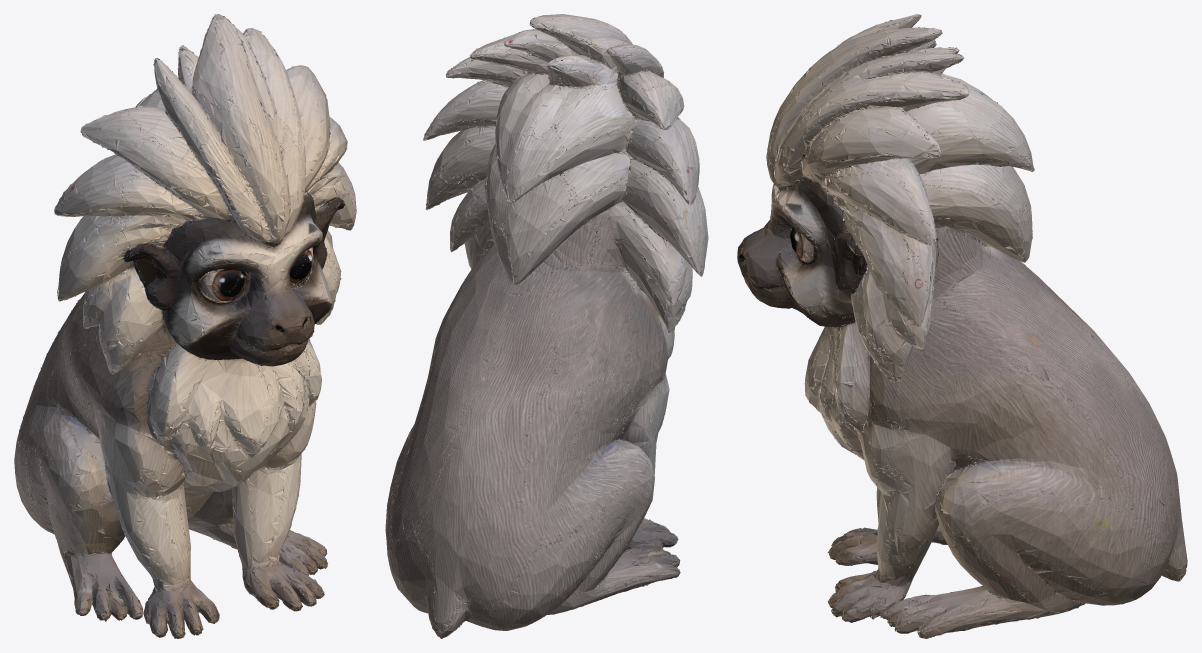
Rendered from mono titi.fbx.
3 views of the same model, side by side, from view 1: azimuth 30°, elevation 25°; view 2: azimuth 150°, elevation 25°; view 3: azimuth 270°, elevation 25° (orthographic). The views are drawn at different scales.
Visible parts, largest first — view 1: mono titi; view 2: mono titi; view 3: mono titi.
Part boxes in pixels (box(x1,y1,x2,y2)): mono titi: box(14, 14, 356, 638); mono titi: box(385, 14, 708, 638); mono titi: box(737, 14, 1187, 638).
Size of the model in its own units: 1.08 by 1.99 by 1.44.
Materials: 1 (1 with a texture image).
